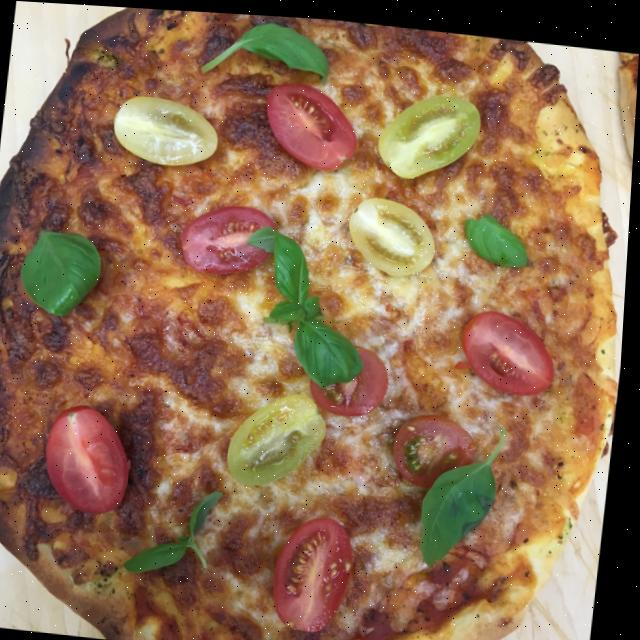basil: (236, 215, 382, 388), (421, 435, 516, 570), (127, 476, 239, 584), (194, 12, 342, 85), (15, 225, 109, 321), (460, 205, 537, 266)
pizza: (0, 0, 640, 640)
tomatoes: (372, 69, 489, 184), (40, 398, 150, 519), (269, 505, 369, 637), (223, 378, 335, 491), (105, 86, 228, 176), (258, 70, 368, 170), (460, 296, 566, 395), (342, 187, 445, 281), (179, 189, 280, 278), (397, 396, 487, 486), (311, 336, 399, 420)
